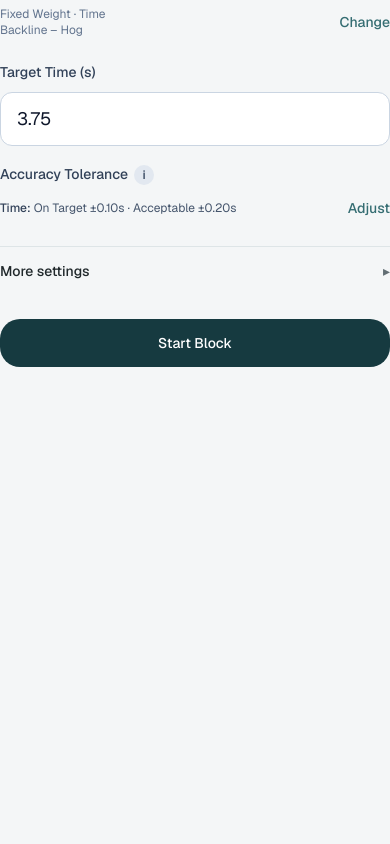
TrainingSetup — Training Category / Measurement Mode help › opening the shared Training Mode Info popover does not change the selection
Click the button "Change" at x=365, y=22, box [340,0,389,44]
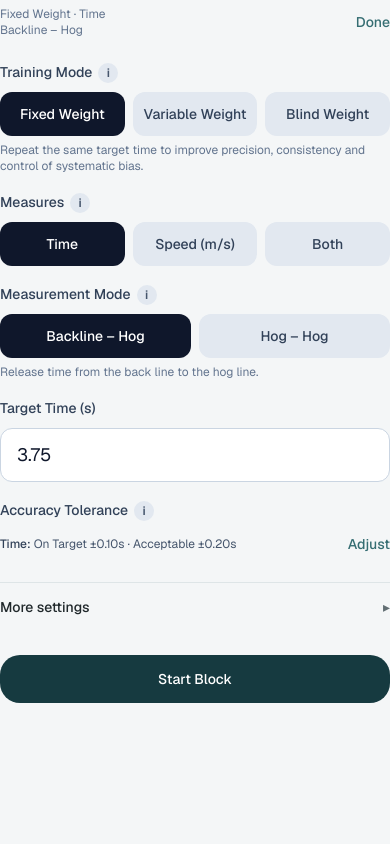
Click the button named "About Fixed Weight" at x=108, y=73, box [98,63,118,83]
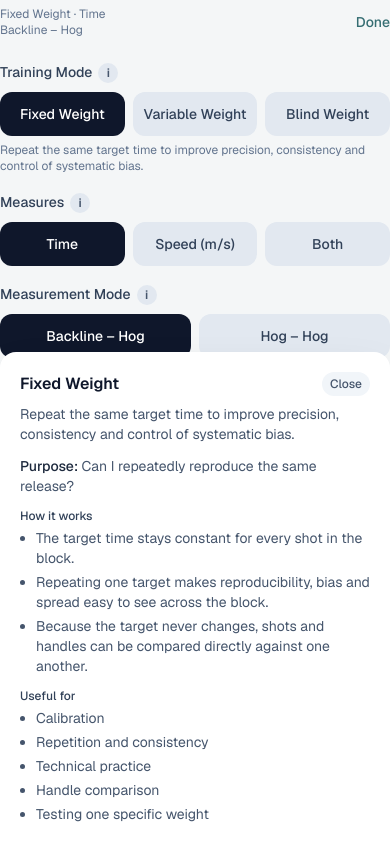
Check: the dialog "Fixed Weight" is shown, box [0,352,389,843]
